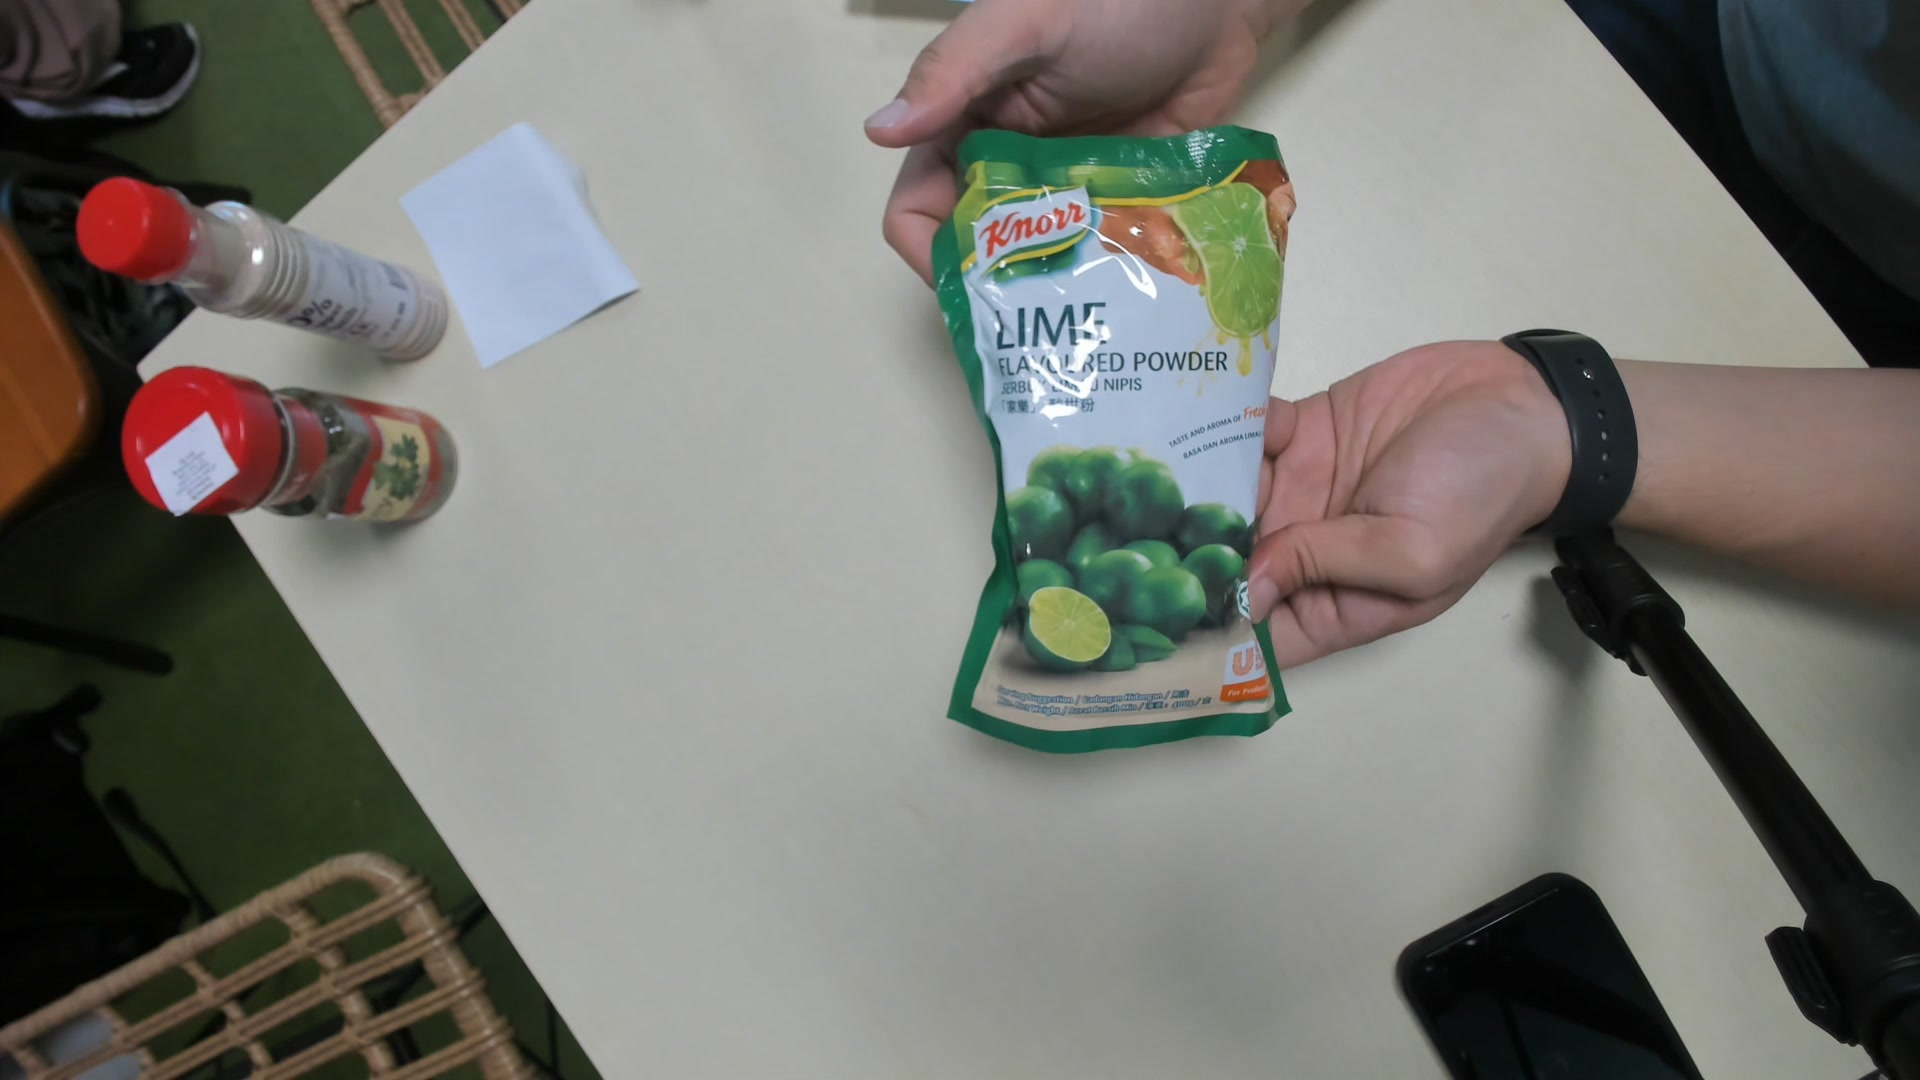HerbsSpicesPepper_400-499g_Halal_NonHealthy: (934, 131, 1294, 741)
